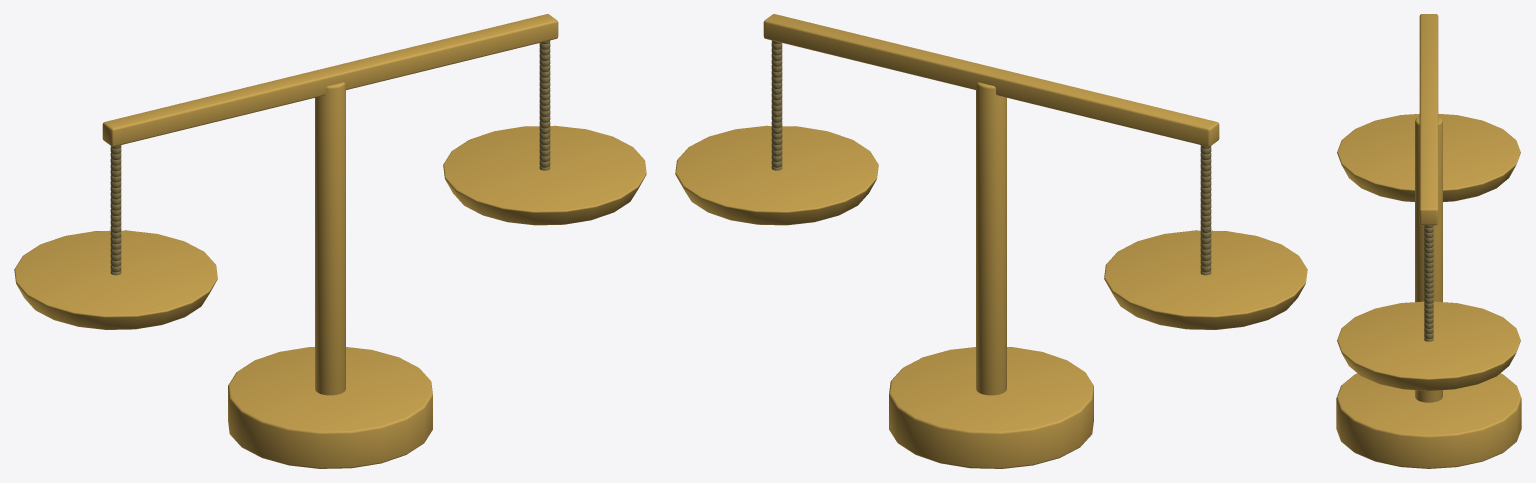
File: balanca.glb
3 views of the same model, side by side, from view 1: azimuth 30°, elevation 25°; view 2: azimuth 150°, elevation 25°; view 3: azimuth 270°, elevation 25° (orthographic). The views are drawn at different scales.
Visible parts, largest first — view 1: balanca; view 2: balanca; view 3: balanca.
Part boxes in pixels (left/top/right/bottom): balanca: left=14, top=14, right=646, bottom=468; balanca: left=675, top=14, right=1307, bottom=468; balanca: left=1336, top=14, right=1521, bottom=468.
Bounding box in the file's own units: 1.9 × 1.06 × 0.56.
